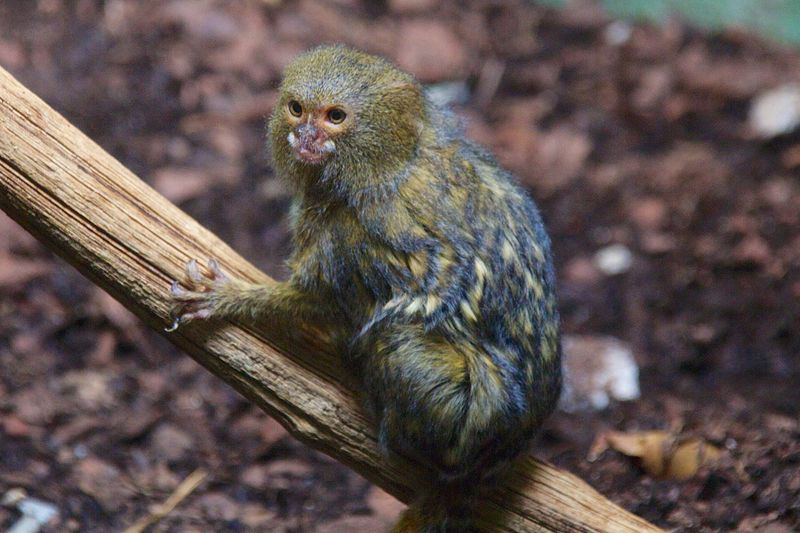PygmyMarmoset: (261, 60, 568, 461)
